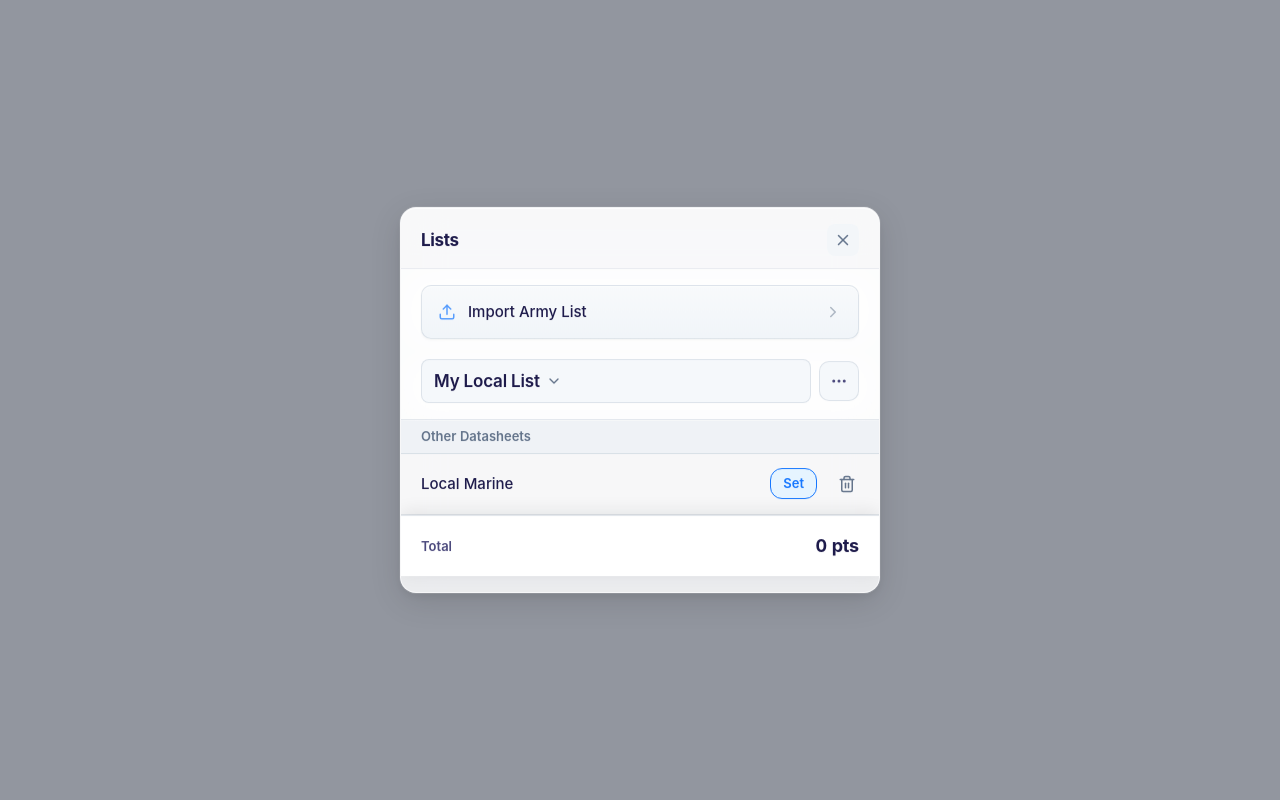
Test: ListOverview sharing › offers Share List for a local list
Click the button with class "list-overview-more-button". click: x=839, y=381
box: [819,361,859,401]
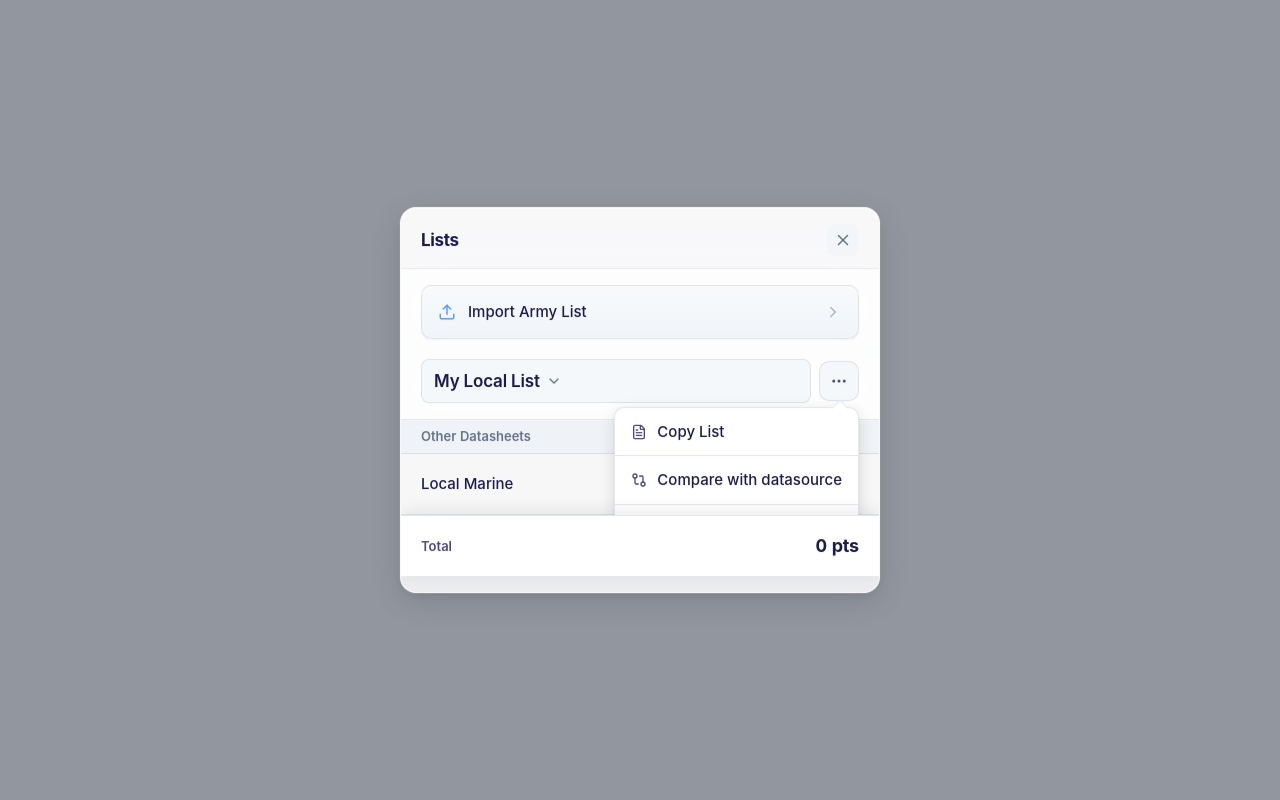
Expected: the text "Share List" is shown, [657,517,728,541]
Expected: the text "Copy List" is shown, [657,420,724,444]
